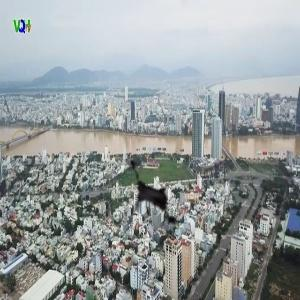drone: (102, 148, 204, 250)
